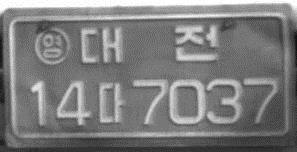0: (167, 77, 206, 126)
1: (27, 78, 47, 129)
3: (206, 76, 243, 126)
4: (54, 79, 91, 126)
7: (130, 77, 169, 126), (242, 76, 279, 125)
다: (96, 79, 125, 126)
대전_D: (79, 22, 219, 64)
영: (34, 25, 71, 65)
